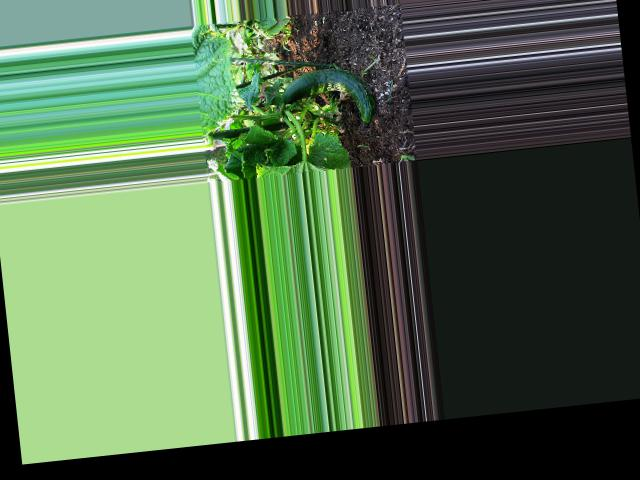cucumber: (278, 63, 377, 132)
